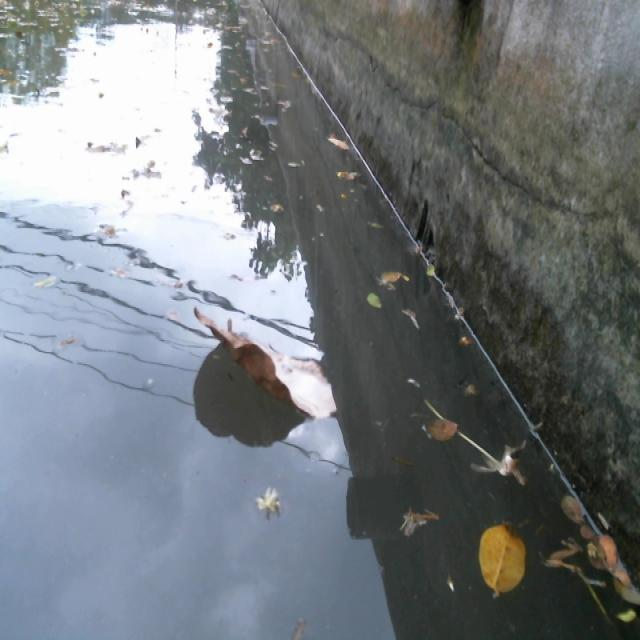Big-leaf: (184, 299, 344, 439)
Small-leaf: (472, 513, 535, 602), (411, 407, 465, 448), (595, 568, 640, 605), (555, 484, 586, 527), (596, 527, 624, 569), (332, 161, 366, 193), (582, 537, 612, 572), (375, 266, 415, 289), (395, 303, 421, 335), (325, 128, 355, 155), (361, 288, 387, 313), (572, 518, 594, 542), (28, 278, 65, 292)
